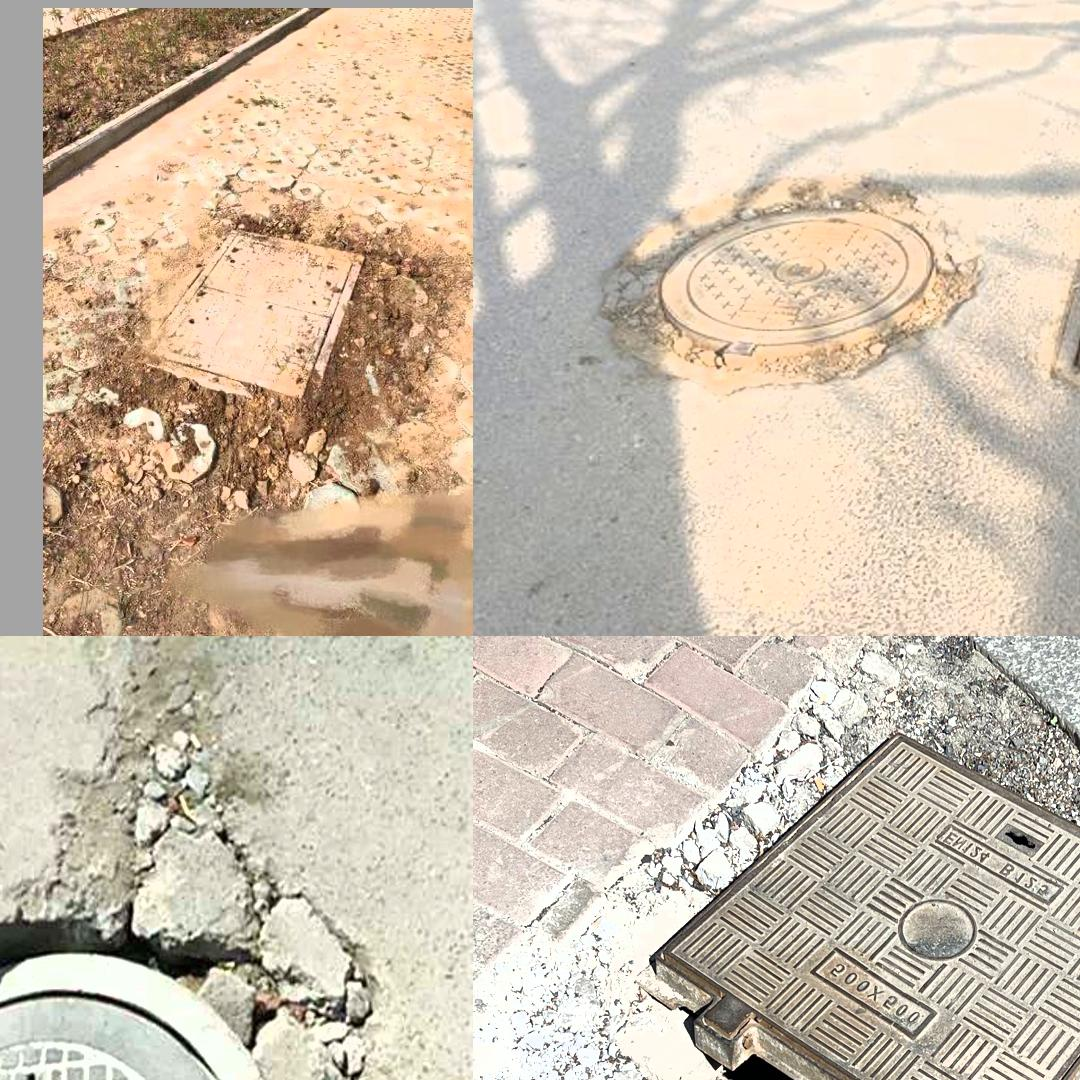circle: (526, 726, 1080, 1080), (0, 714, 396, 1080), (599, 155, 992, 403), (121, 224, 384, 430)
